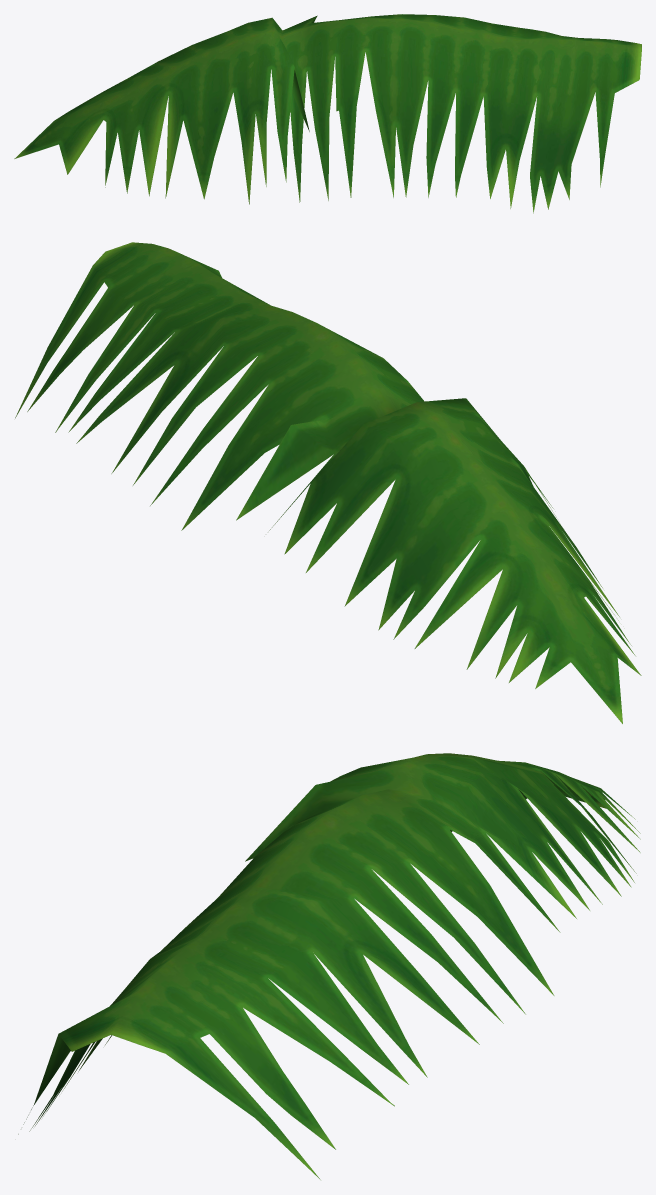
The model's file is palm_leaves_palm_leaves_0_004.obj.
3 renders of one model, top to bottom at view 1: azimuth 30°, elevation 25°; view 2: azimuth 150°, elevation 25°; view 3: azimuth 270°, elevation 25°, orthographic. The views are drawn at different scales.
Visible parts, largest first — view 1: palm_leaves_palm_leaves_0.004; view 2: palm_leaves_palm_leaves_0.004; view 3: palm_leaves_palm_leaves_0.004.
Part boxes in pixels (x1=…): palm_leaves_palm_leaves_0.004: x1=14, y1=14, x2=641, y2=213; palm_leaves_palm_leaves_0.004: x1=15, y1=242, x2=641, y2=723; palm_leaves_palm_leaves_0.004: x1=18, y1=753, x2=640, y2=1179.
Bounding box in the file's own units: 27.07 × 7.78 × 17.67.
1 material, 1 textured.
